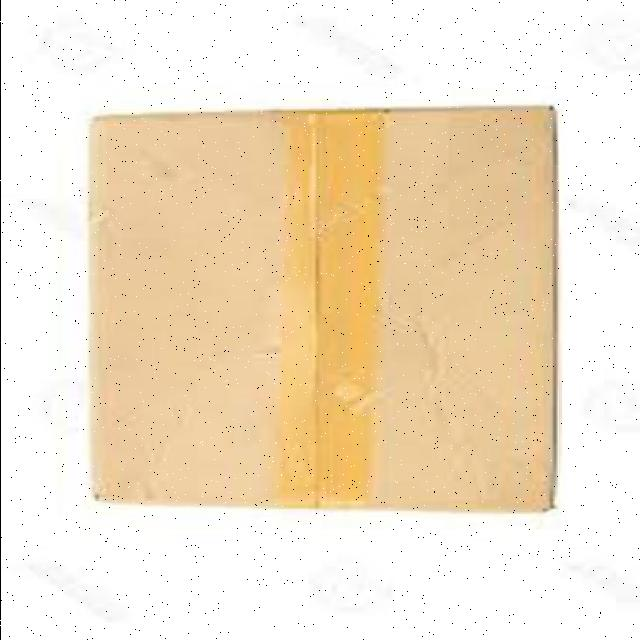normal: (79, 104, 558, 516)
